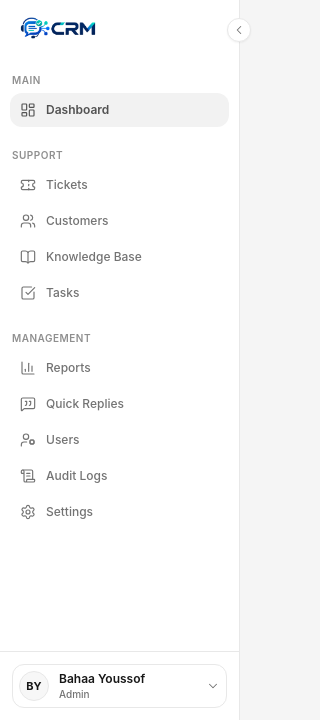
it: Sidebar component › shows My Profile for ADMIN and navigates to the shared internal route
Click the button "BY Bahaa Youssof admin": click(120, 686) [12,664,227,708]
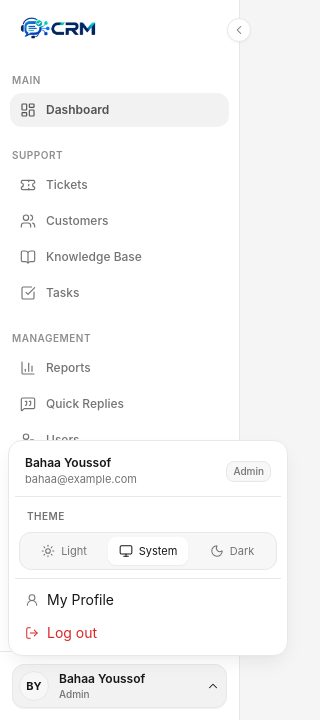
Click the menu item "My Profile": click(81, 600) [15,583,281,616]
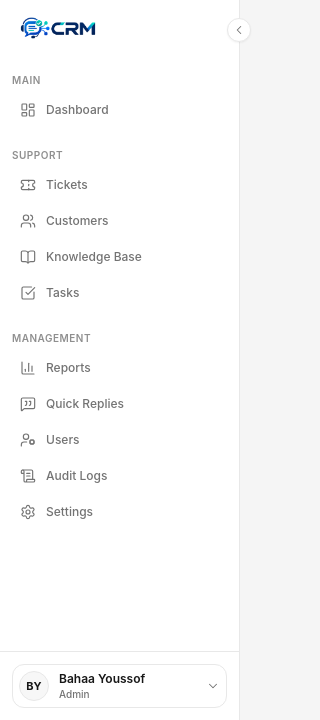
Result: the menu item "My Profile" is gone
